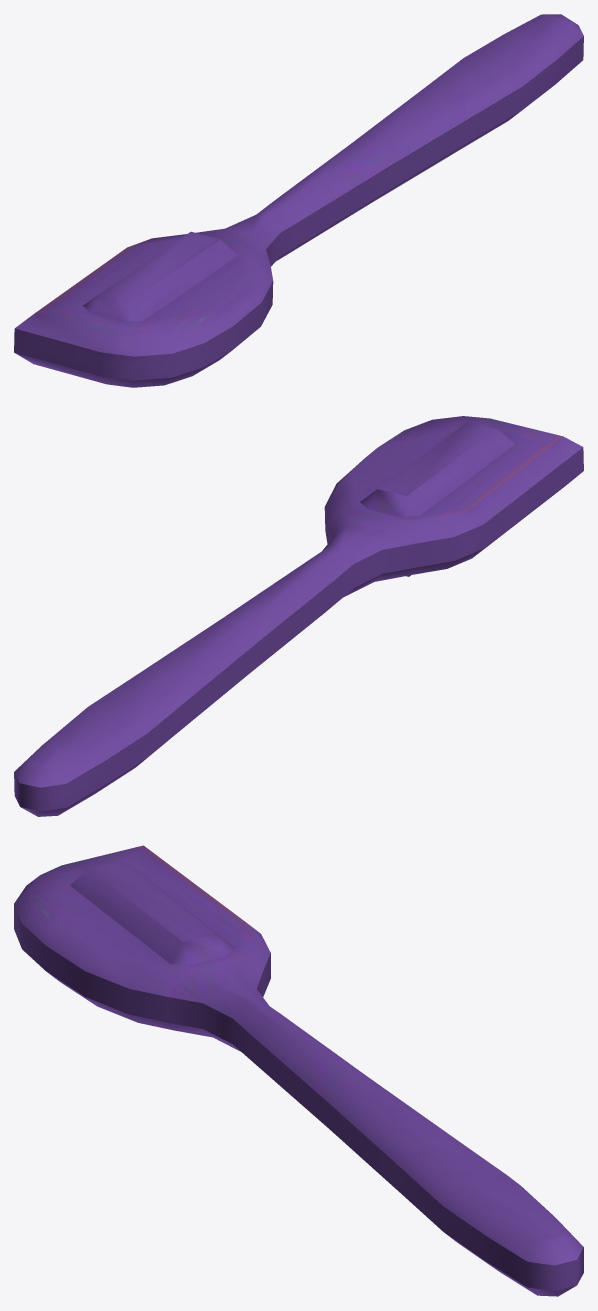
File: spatula.glb
The picture shows the model from 3 angles, top to bottom: view 1: azimuth 30°, elevation 25°; view 2: azimuth 210°, elevation 25°; view 3: azimuth 270°, elevation 25°; orthographic projection. The views are drawn at different scales.
Visible parts, largest first — view 1: Spatula; view 2: Spatula; view 3: Spatula.
Part boxes in pixels (x1,y1,x2,y2): Spatula: (14, 14, 583, 387); Spatula: (14, 416, 583, 816); Spatula: (14, 845, 583, 1296).
Bounding box in the file's own units: 0.2917 × 0.0313 × 0.1766.
1 material, 1 textured.
